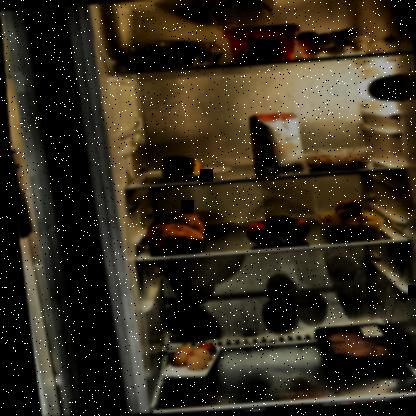butter: (221, 22, 301, 67)
cheese: (156, 153, 206, 180)
chicken: (312, 325, 389, 367)
eggs: (163, 338, 216, 375)
green_beans: (120, 38, 225, 71)
mushrooms: (289, 26, 369, 61)
potato: (309, 198, 380, 240)
shrimp: (300, 150, 374, 170)
sweet_potato: (141, 210, 205, 257)
tomato: (239, 210, 308, 248)
